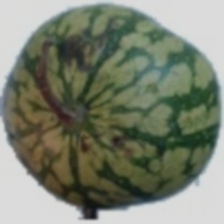watermelon: (14, 25, 205, 223)
